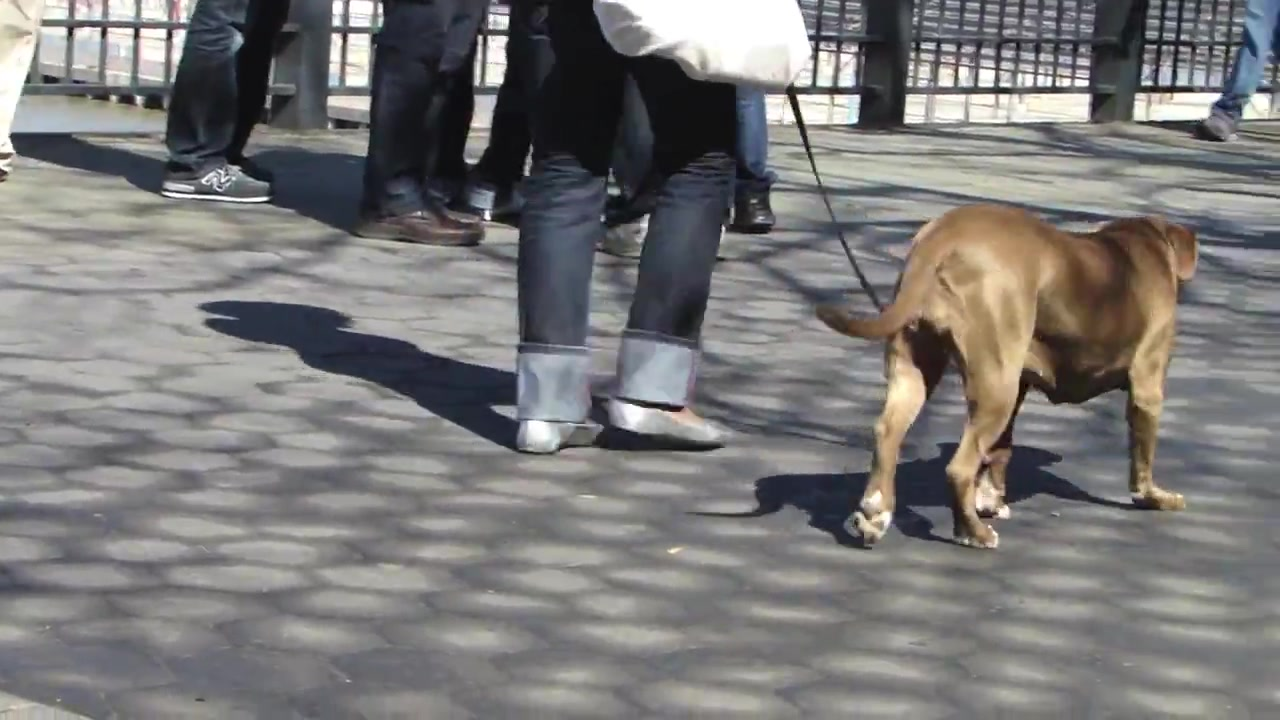dog: (816, 203, 1201, 553)
